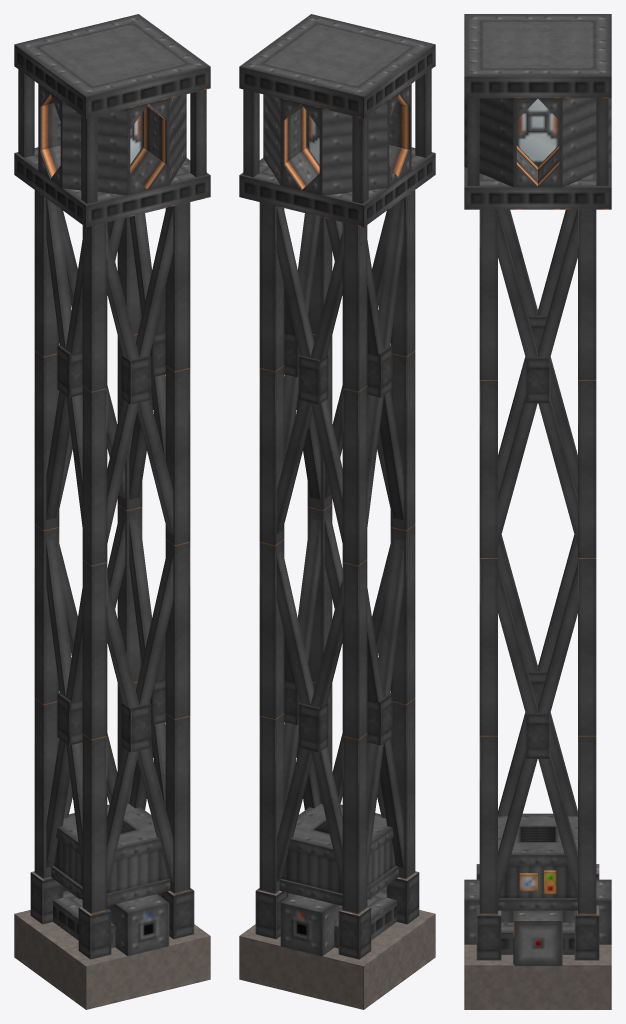
The model's file is solar_melter.obj.
3 renders of one model, left to right at view 1: azimuth 30°, elevation 25°; view 2: azimuth 150°, elevation 25°; view 3: azimuth 270°, elevation 25°, orthographic. The views are drawn at different scales.
Visible parts, largest first — view 1: solar_melter; view 2: solar_melter; view 3: solar_melter.
Part boxes in pixels (x1,y1,x2,y2): solar_melter: (14,14,210,1009); solar_melter: (239,14,435,1009); solar_melter: (464,14,611,1009).
Bounding box in the file's own units: 3 × 21 × 3.
